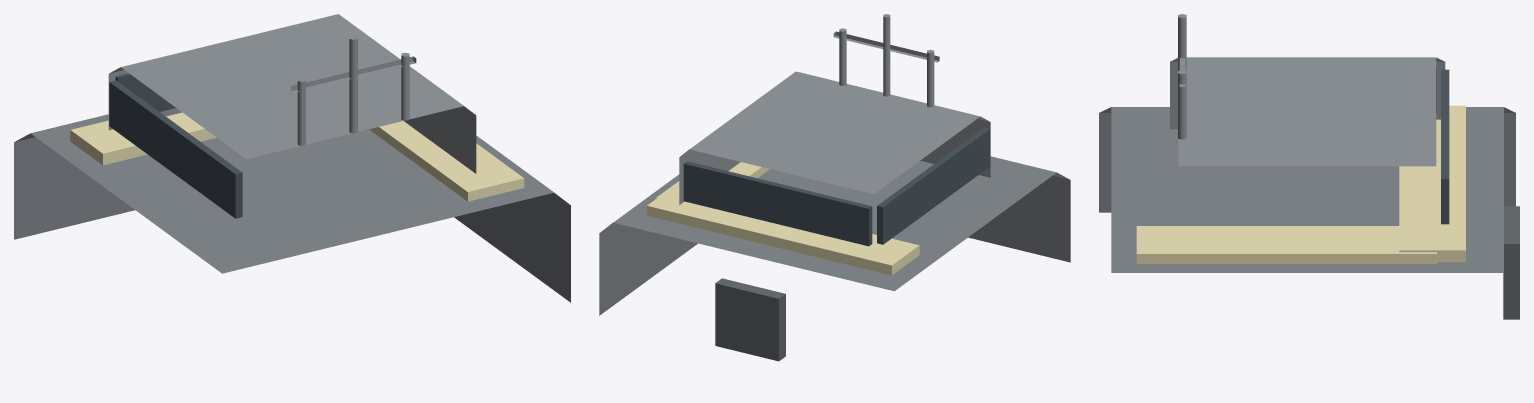
Rendered from tech_center.glb.
3 renders of one model, left to right at view 1: azimuth 30°, elevation 25°; view 2: azimuth 150°, elevation 25°; view 3: azimuth 270°, elevation 25°, orthographic. The views are drawn at different scales.
Parts seen in each view (by area): view 1: Body; view 2: Body; view 3: Body.
Boxes of the visible parts, bbox=[...] form: Body: bbox=[14, 14, 570, 302]; Body: bbox=[599, 14, 1070, 361]; Body: bbox=[1099, 14, 1519, 319].
Bounding box in the file's own units: 7.5 × 5.65 × 7.57.
